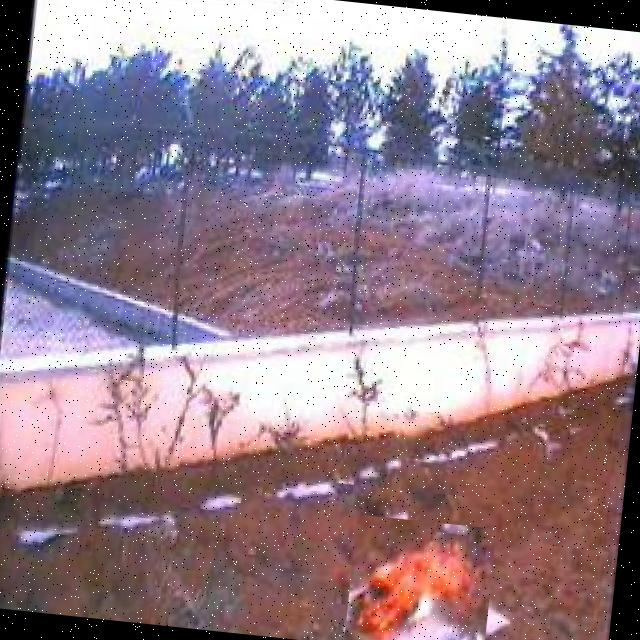fire: (343, 514, 496, 640)
